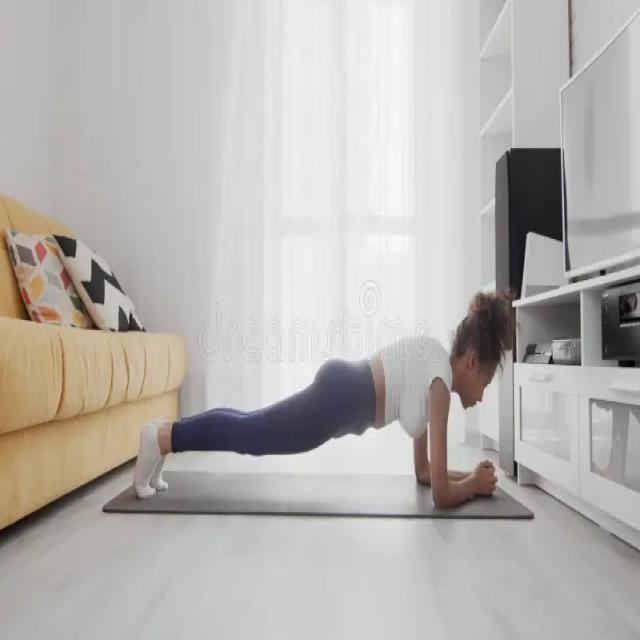plank: (129, 281, 521, 513)
